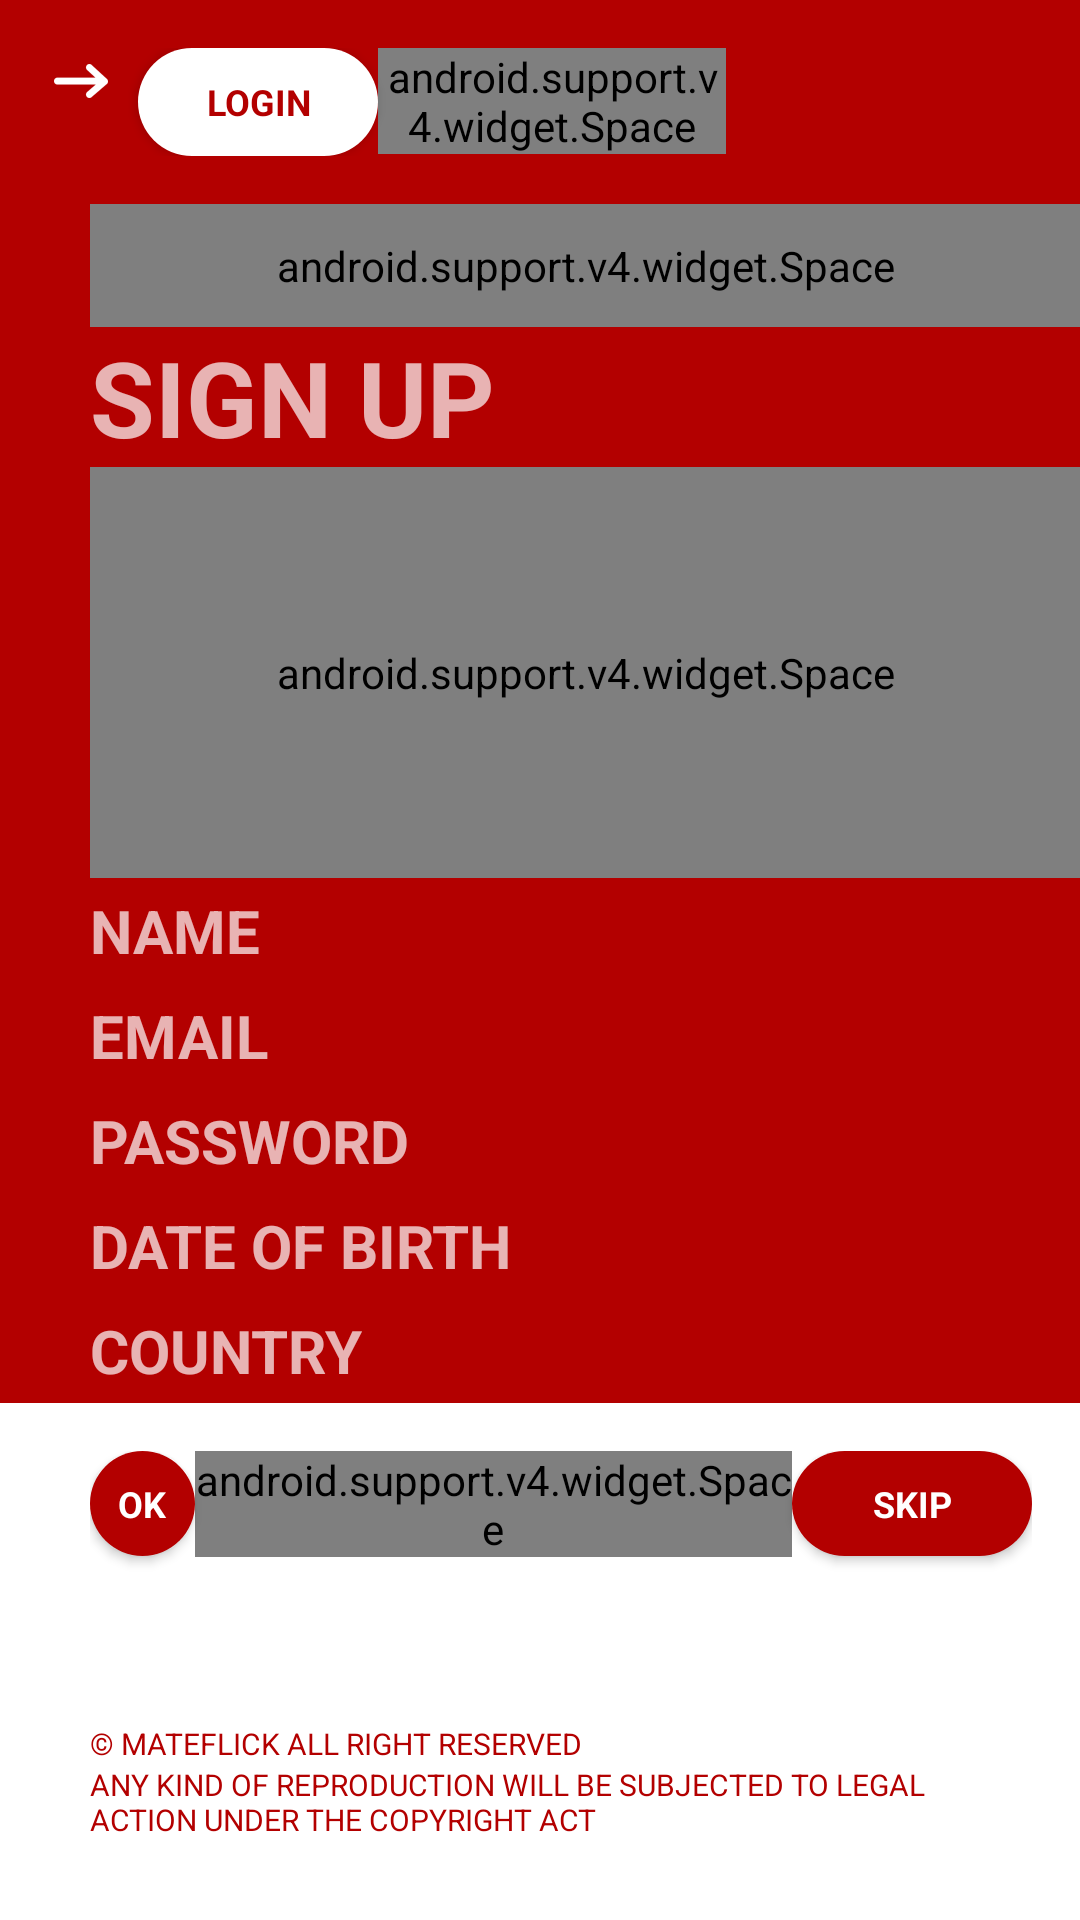

Where to tap for icons on this 1080w x 1920h app screen, as point (x, y):
arrow right: point (81, 81)
